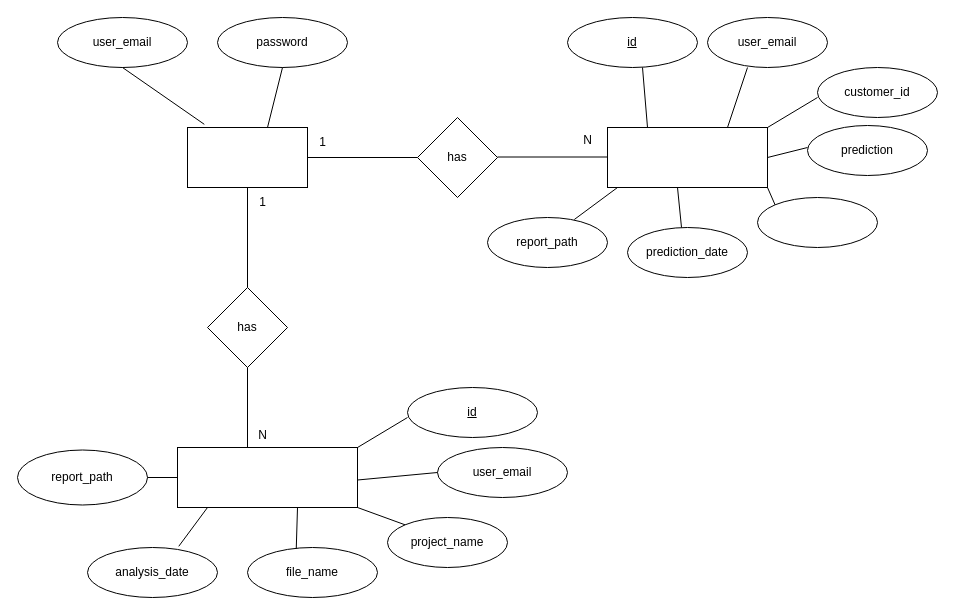
This 955x615 diagram has some shape labels left out. The shapes that lost their labels are listed below. From the top down, each one's box as (x1, y1, x2, y2) in pixels, then its label:
(186, 126, 308, 188): User
(606, 126, 768, 188): Single_Prediction_History
(756, 196, 878, 248): probability
(176, 446, 358, 508): Bulk_Prediction_History
